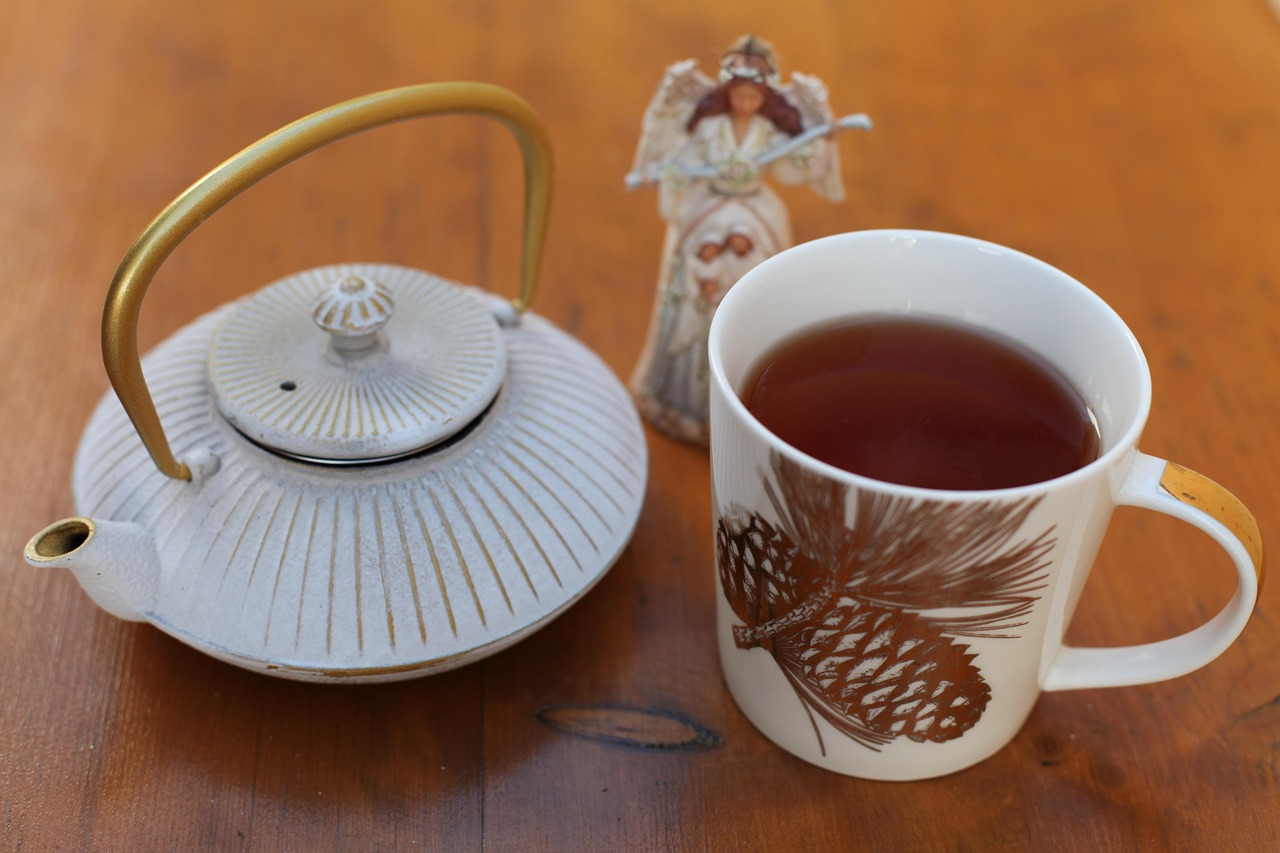mug: (672, 222, 1268, 813)
